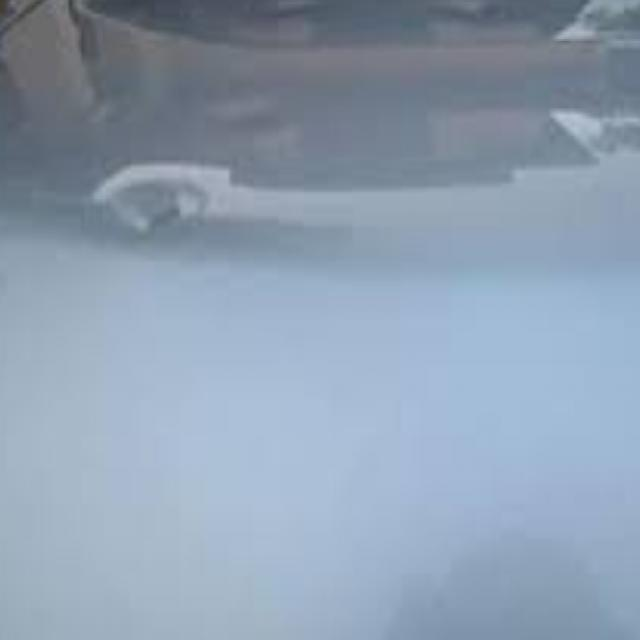dents: (113, 170, 212, 268)
